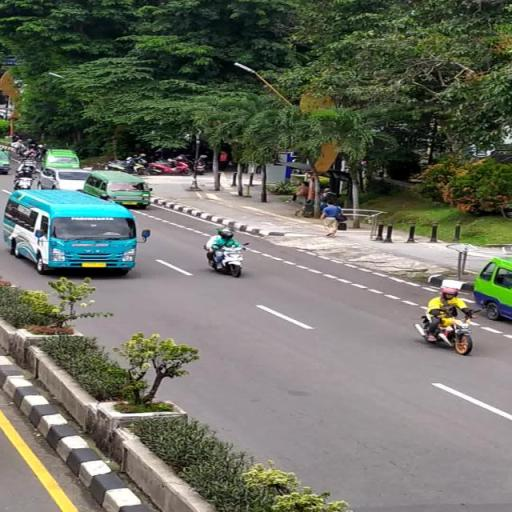Helmet: (441, 284, 460, 302), (220, 229, 238, 244)
Motor: (417, 306, 472, 356), (204, 242, 244, 276)
